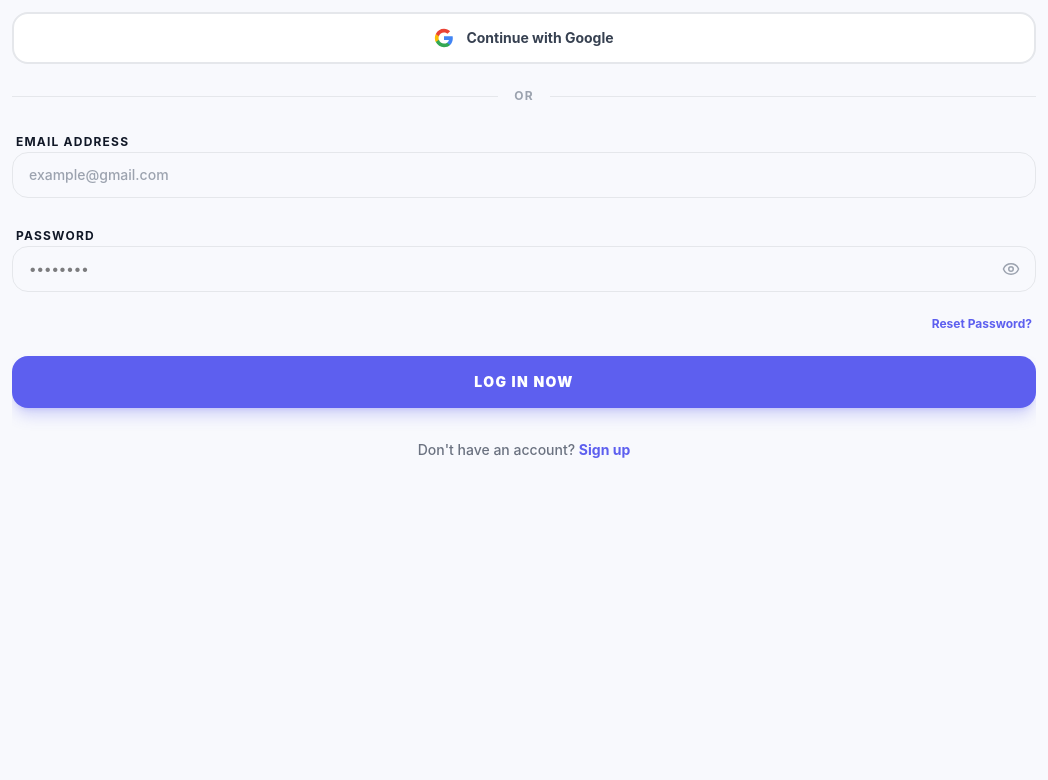
Test case: LoginForm › valide l'email avant de tenter la connexion
This screenshot has width=1048, height=780.
In the field with placeholder "example@gmail.com": (524, 175) [12,152,1036,198], type "invalid-email"
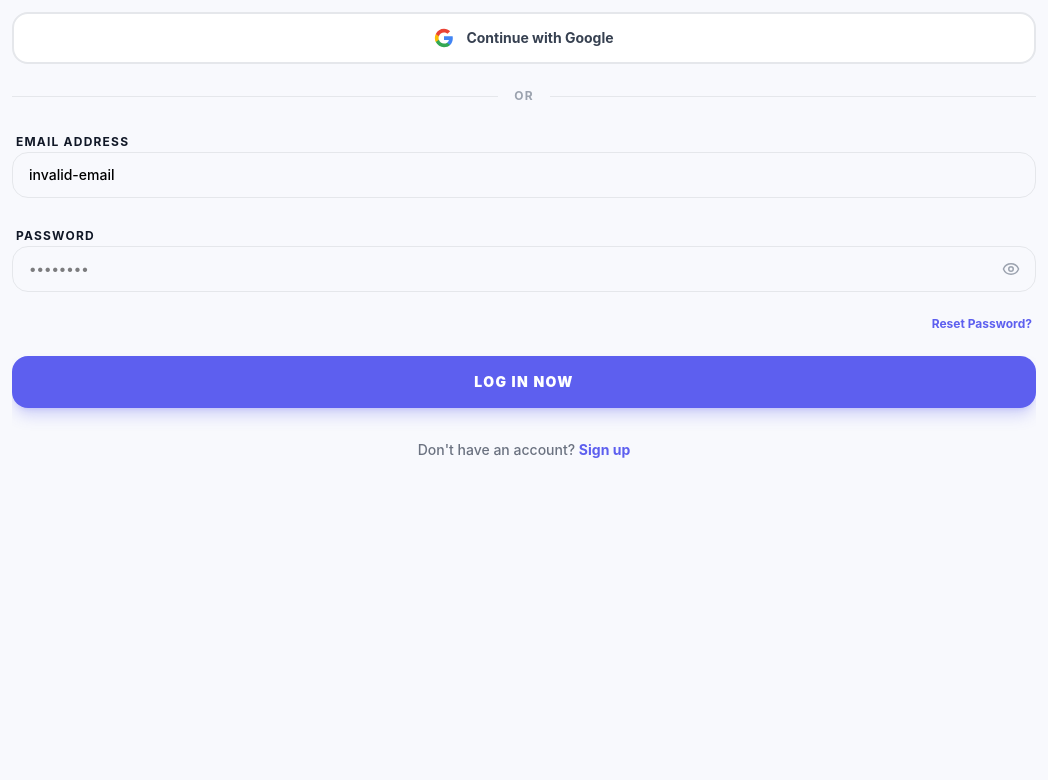
Submit the form "Email Address Password Reset Password? Log in Now", box [12,128,1036,408]
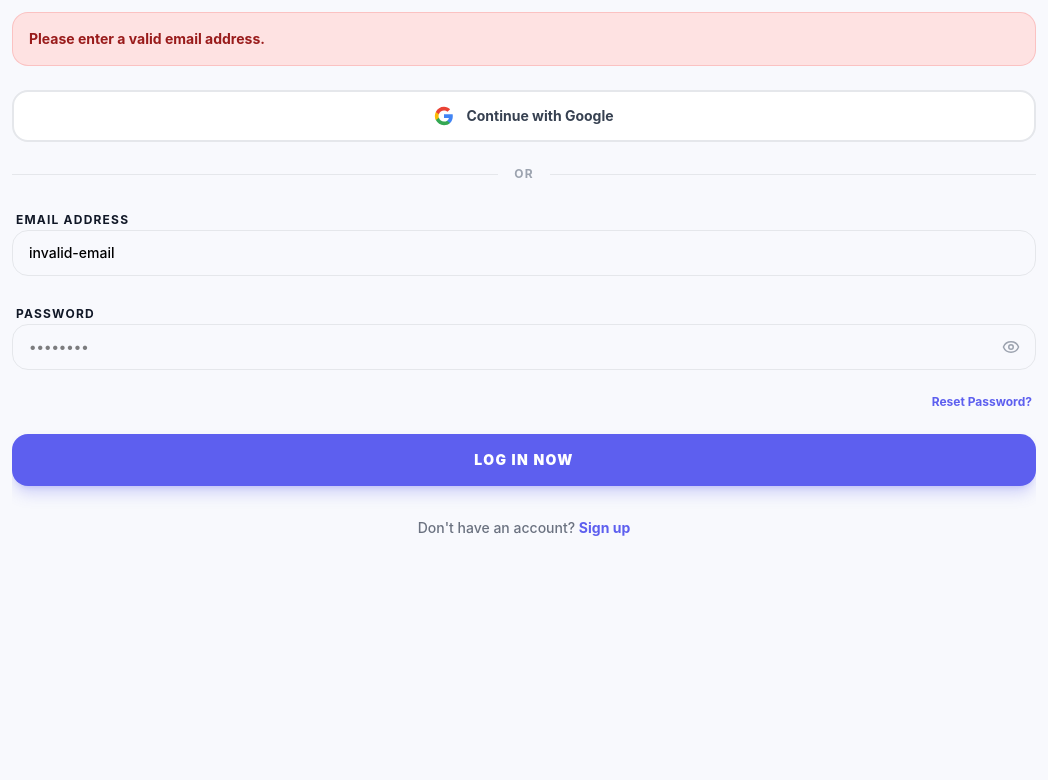
Expected: the text "Please enter a valid email address." is shown, [12,12,1036,66]
